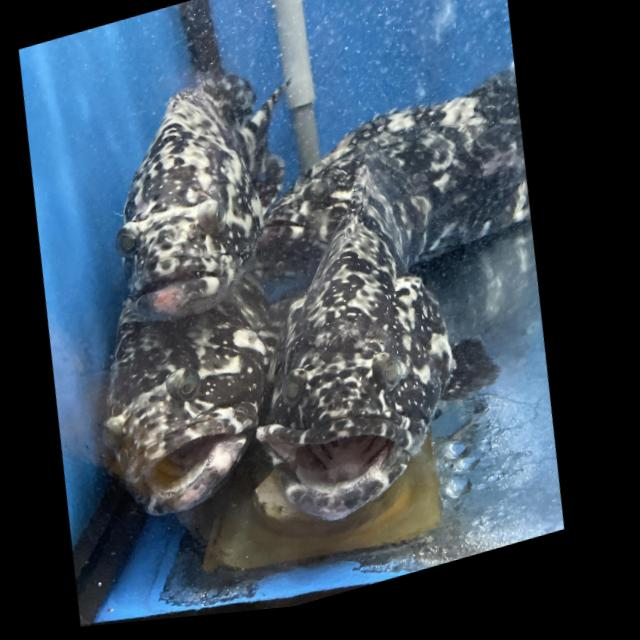Groupers: (191, 103, 546, 551), (53, 230, 329, 544), (80, 45, 332, 340)
